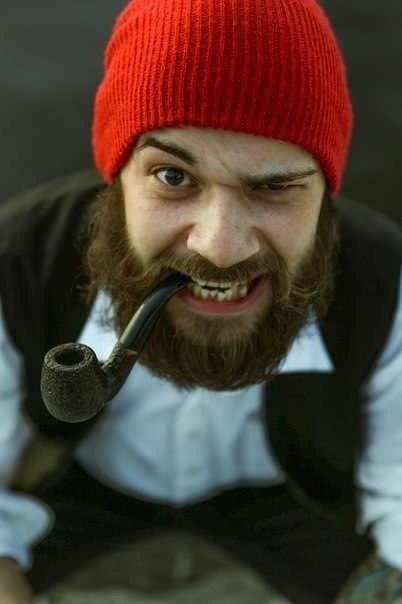trubka: (40, 271, 187, 424)
